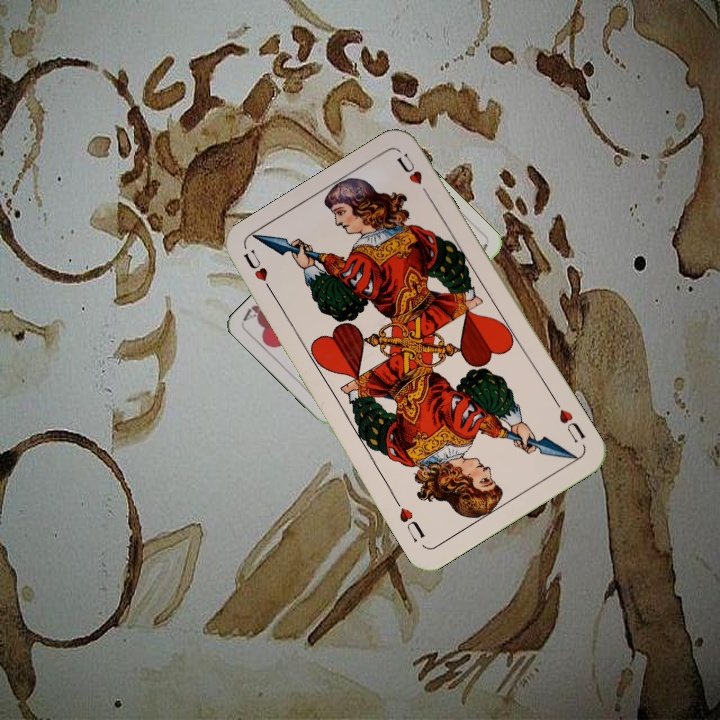HU: (239, 245, 278, 300), (550, 396, 588, 446)
